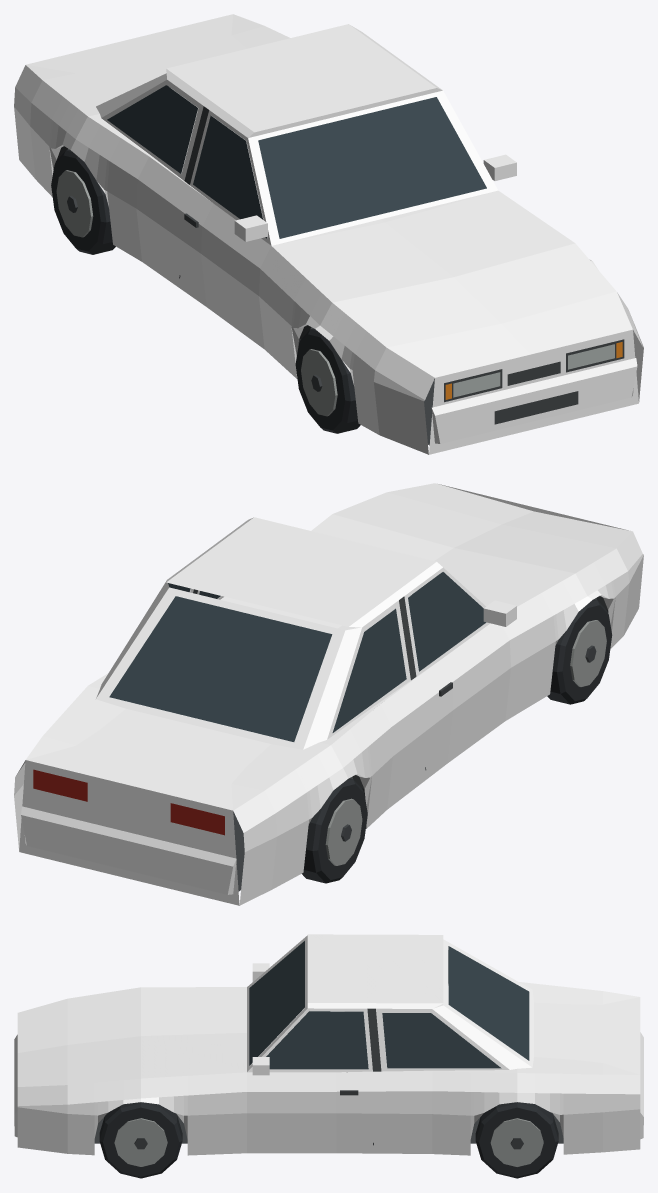
File: varenna_grillo.glb
3 renders of one model, top to bottom at view 1: azimuth 30°, elevation 25°; view 2: azimuth 150°, elevation 25°; view 3: azimuth 270°, elevation 25°, orthographic. The views are drawn at different scales.
Visible parts, largest first — view 1: varenna_grillo; view 2: varenna_grillo; view 3: varenna_grillo.
Boxes of the visible parts, x1,y1,x2,y2 form: varenna_grillo: (14, 14, 643, 454); varenna_grillo: (14, 483, 643, 905); varenna_grillo: (14, 934, 643, 1178).
Size of the model in its own units: 1.75 by 1.26 by 4.47.
8 materials, 1 textured.
